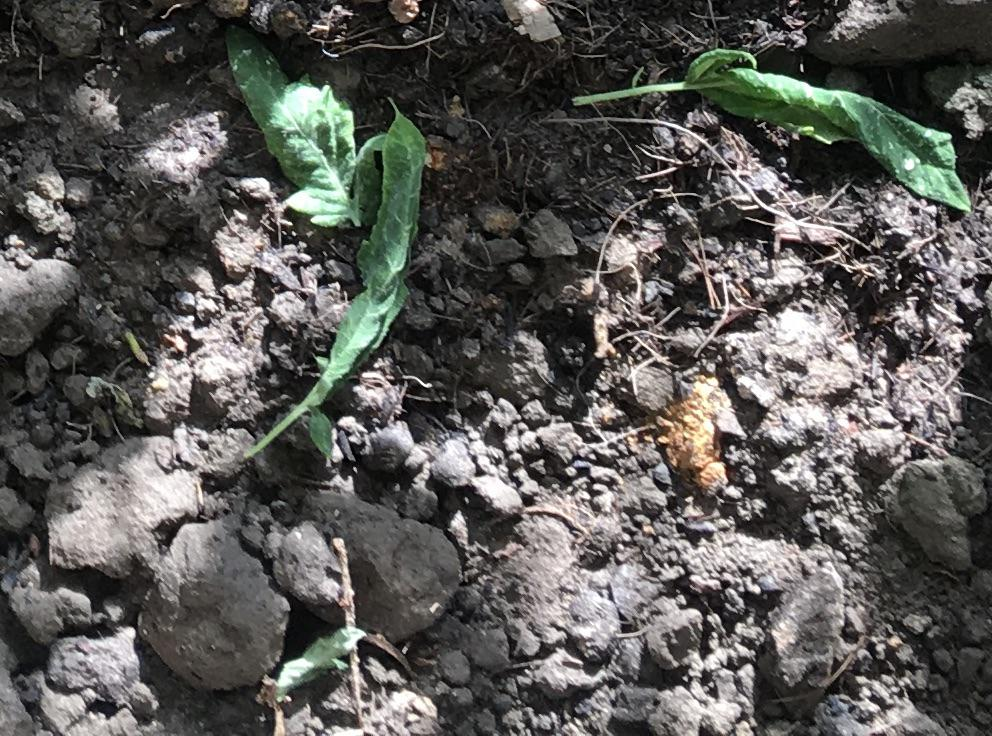block: (297, 490, 467, 647), (140, 522, 292, 696), (40, 429, 200, 578)
